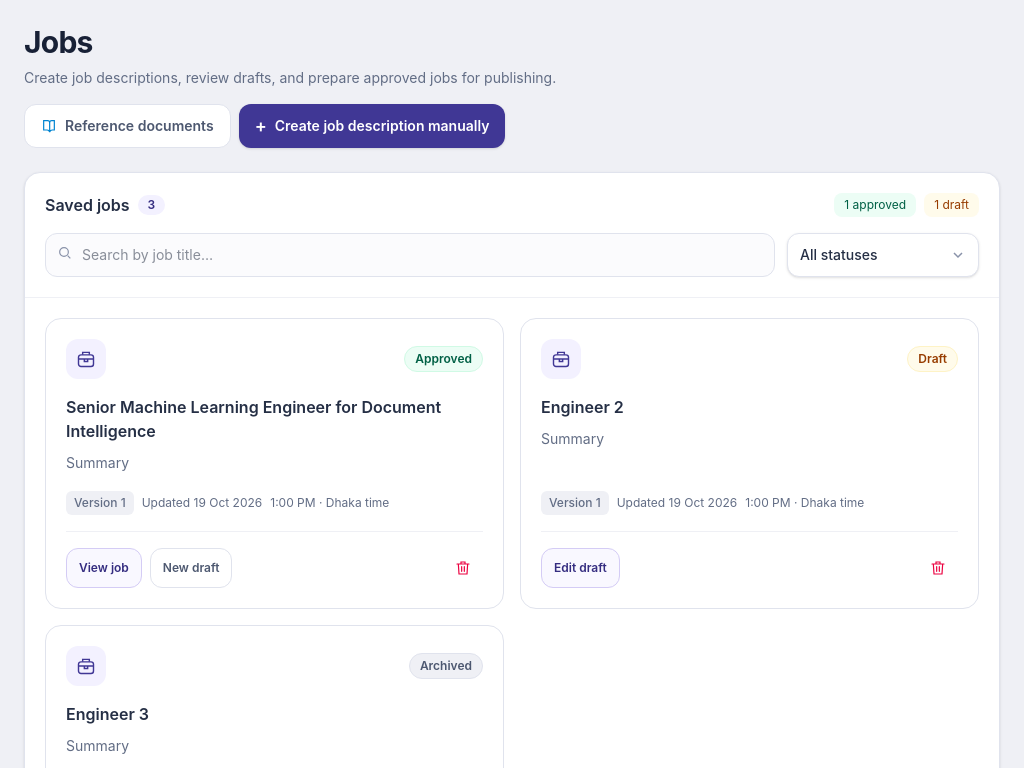
it: searches and filters saved jobs with a useful no-results state
Type "Engineer 2" into the search field named "Search jobs".
click(410, 255); type("Engineer 2")  # box [45, 233, 775, 277]
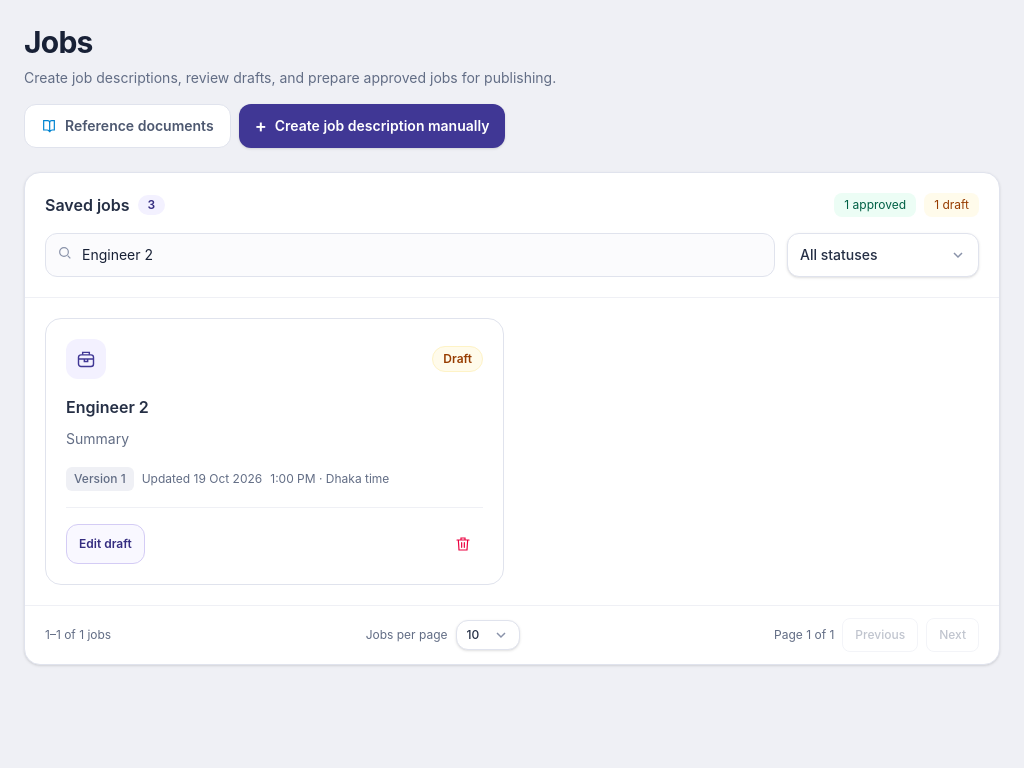
Result: the number of list items is 1 at [45, 318, 504, 585]
Click the dropdown named "Job status".
click(883, 255)  # box [787, 233, 979, 277]
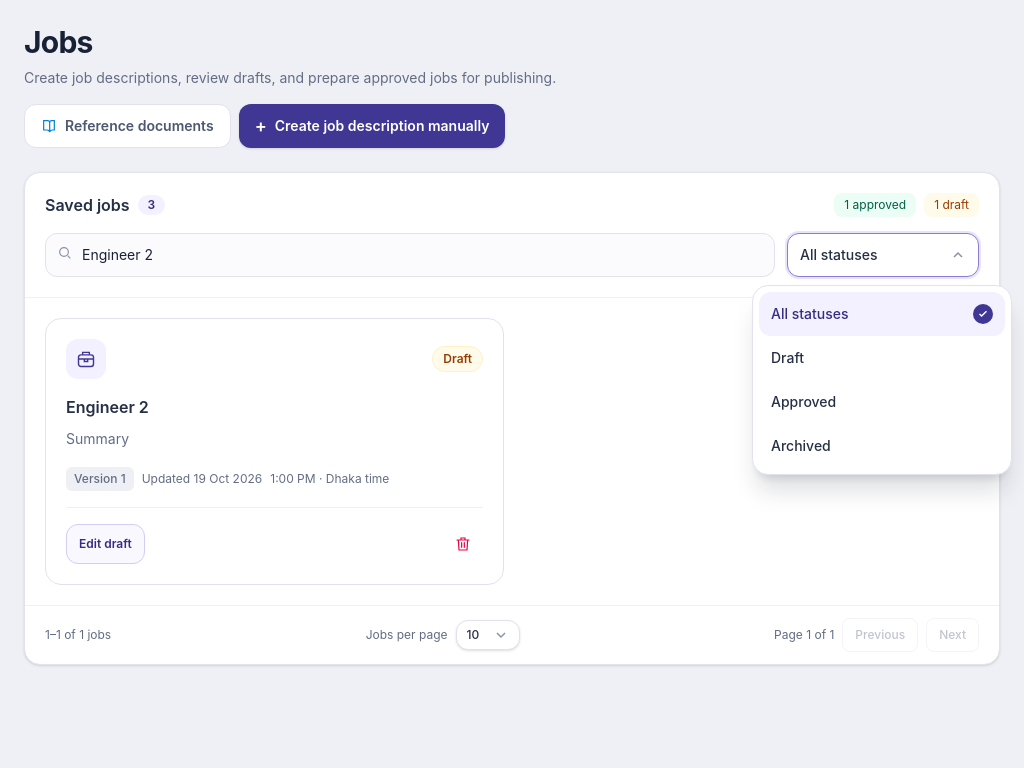
Click the option "Approved".
click(804, 402)  # box [771, 393, 990, 410]
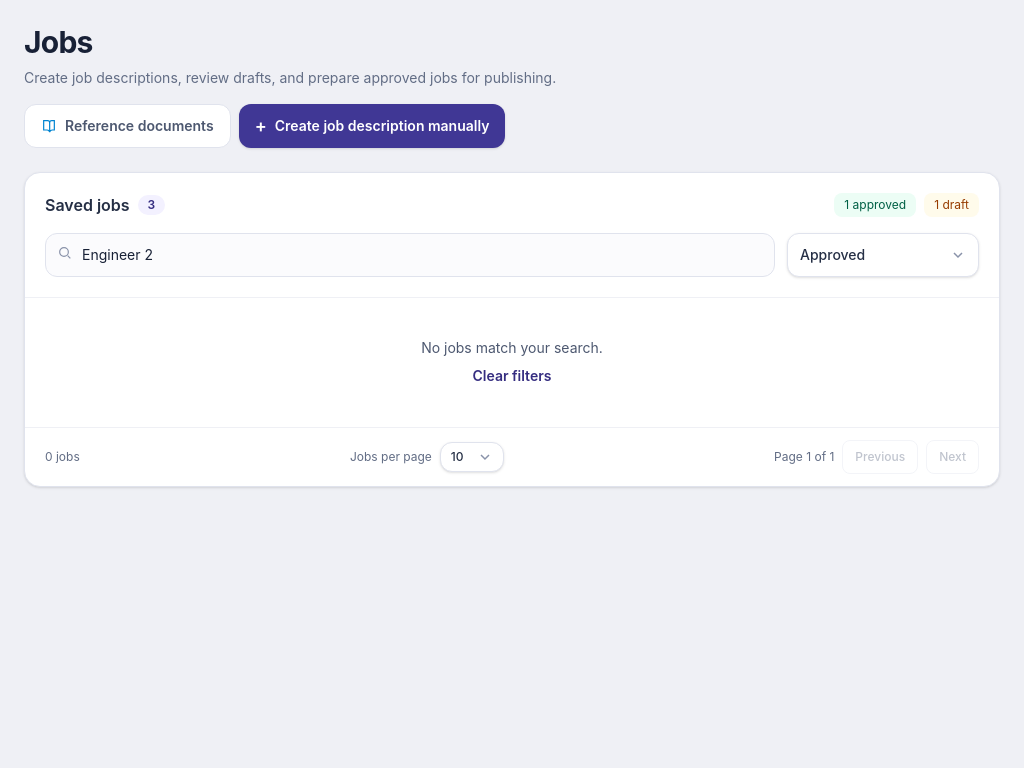
Result: the text "No jobs match your search." is shown at [421, 339, 603, 356]
Click the button "Clear filters".
click(512, 376)  # box [472, 366, 551, 386]
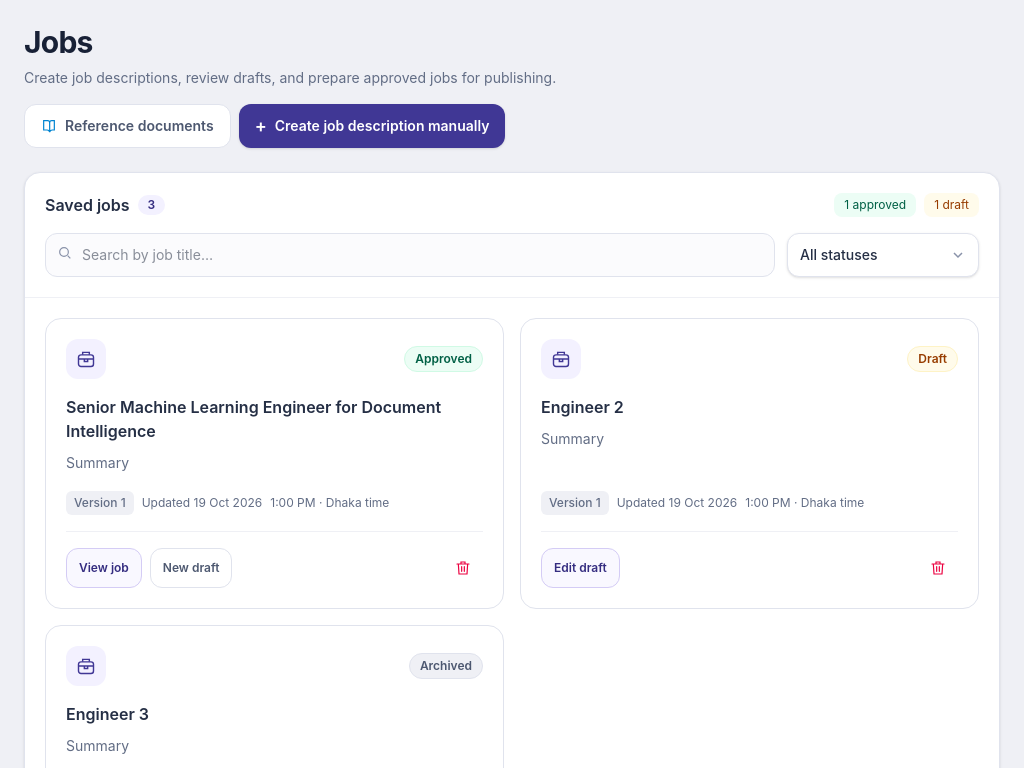
Click the dropdown named "Job status".
click(883, 255)  # box [787, 233, 979, 277]
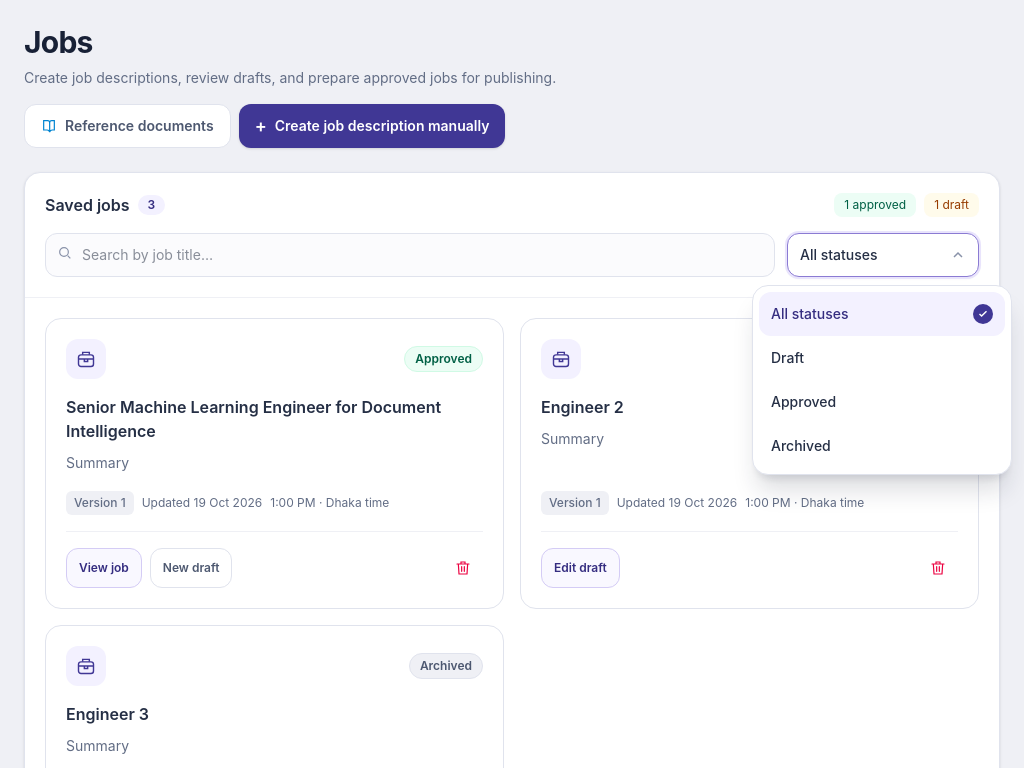
Click the option "Archived".
click(801, 446)  # box [771, 437, 990, 454]
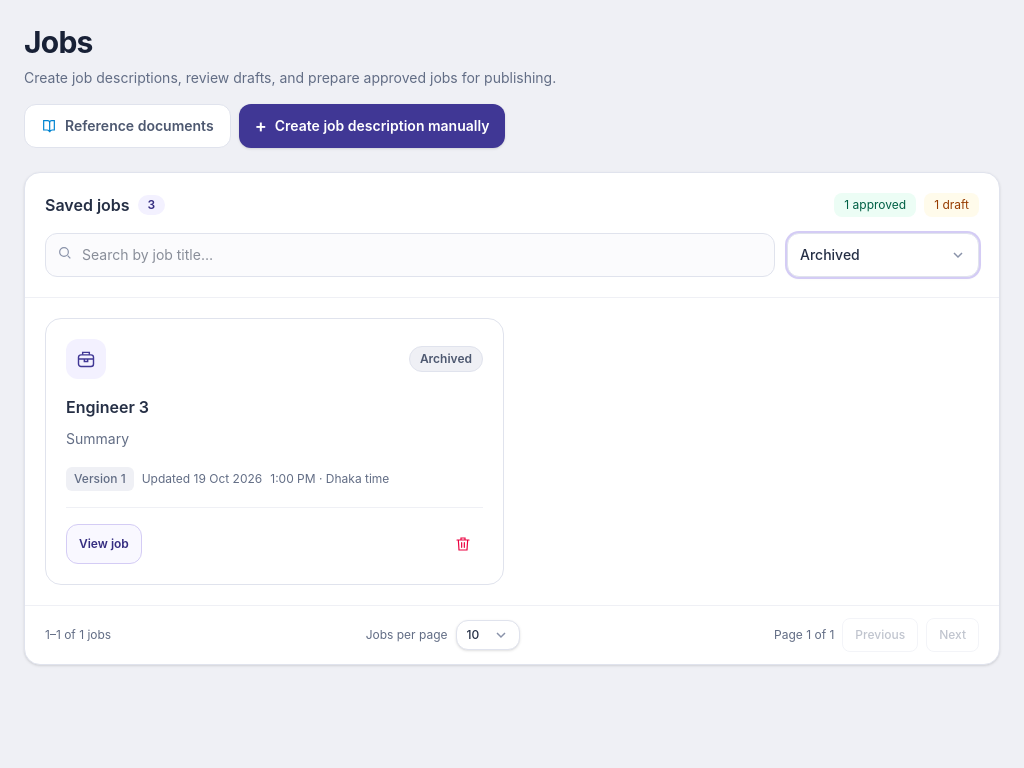
Result: the heading "Engineer 3" is shown at [66, 397, 149, 417]
Result: the heading "Engineer 2" is gone
